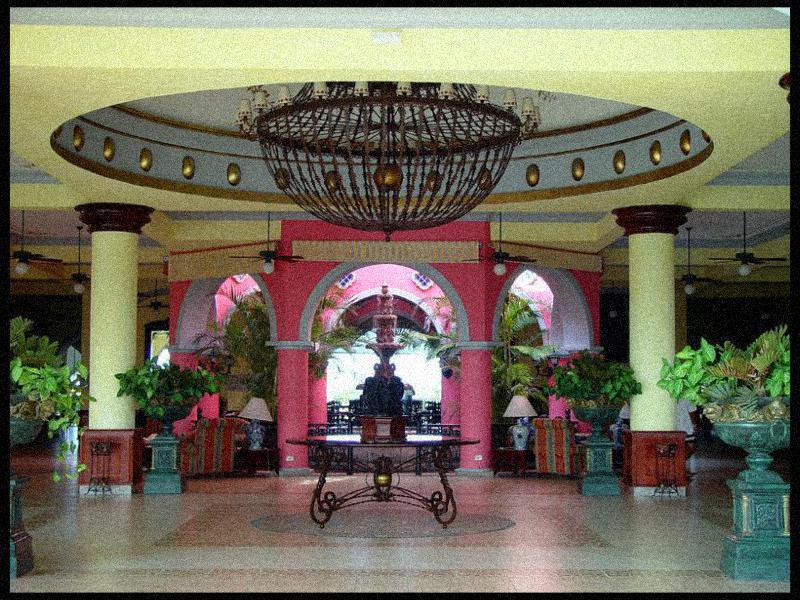Matera: (683, 325, 788, 583), (15, 334, 75, 581), (113, 364, 215, 498), (559, 349, 630, 500)
